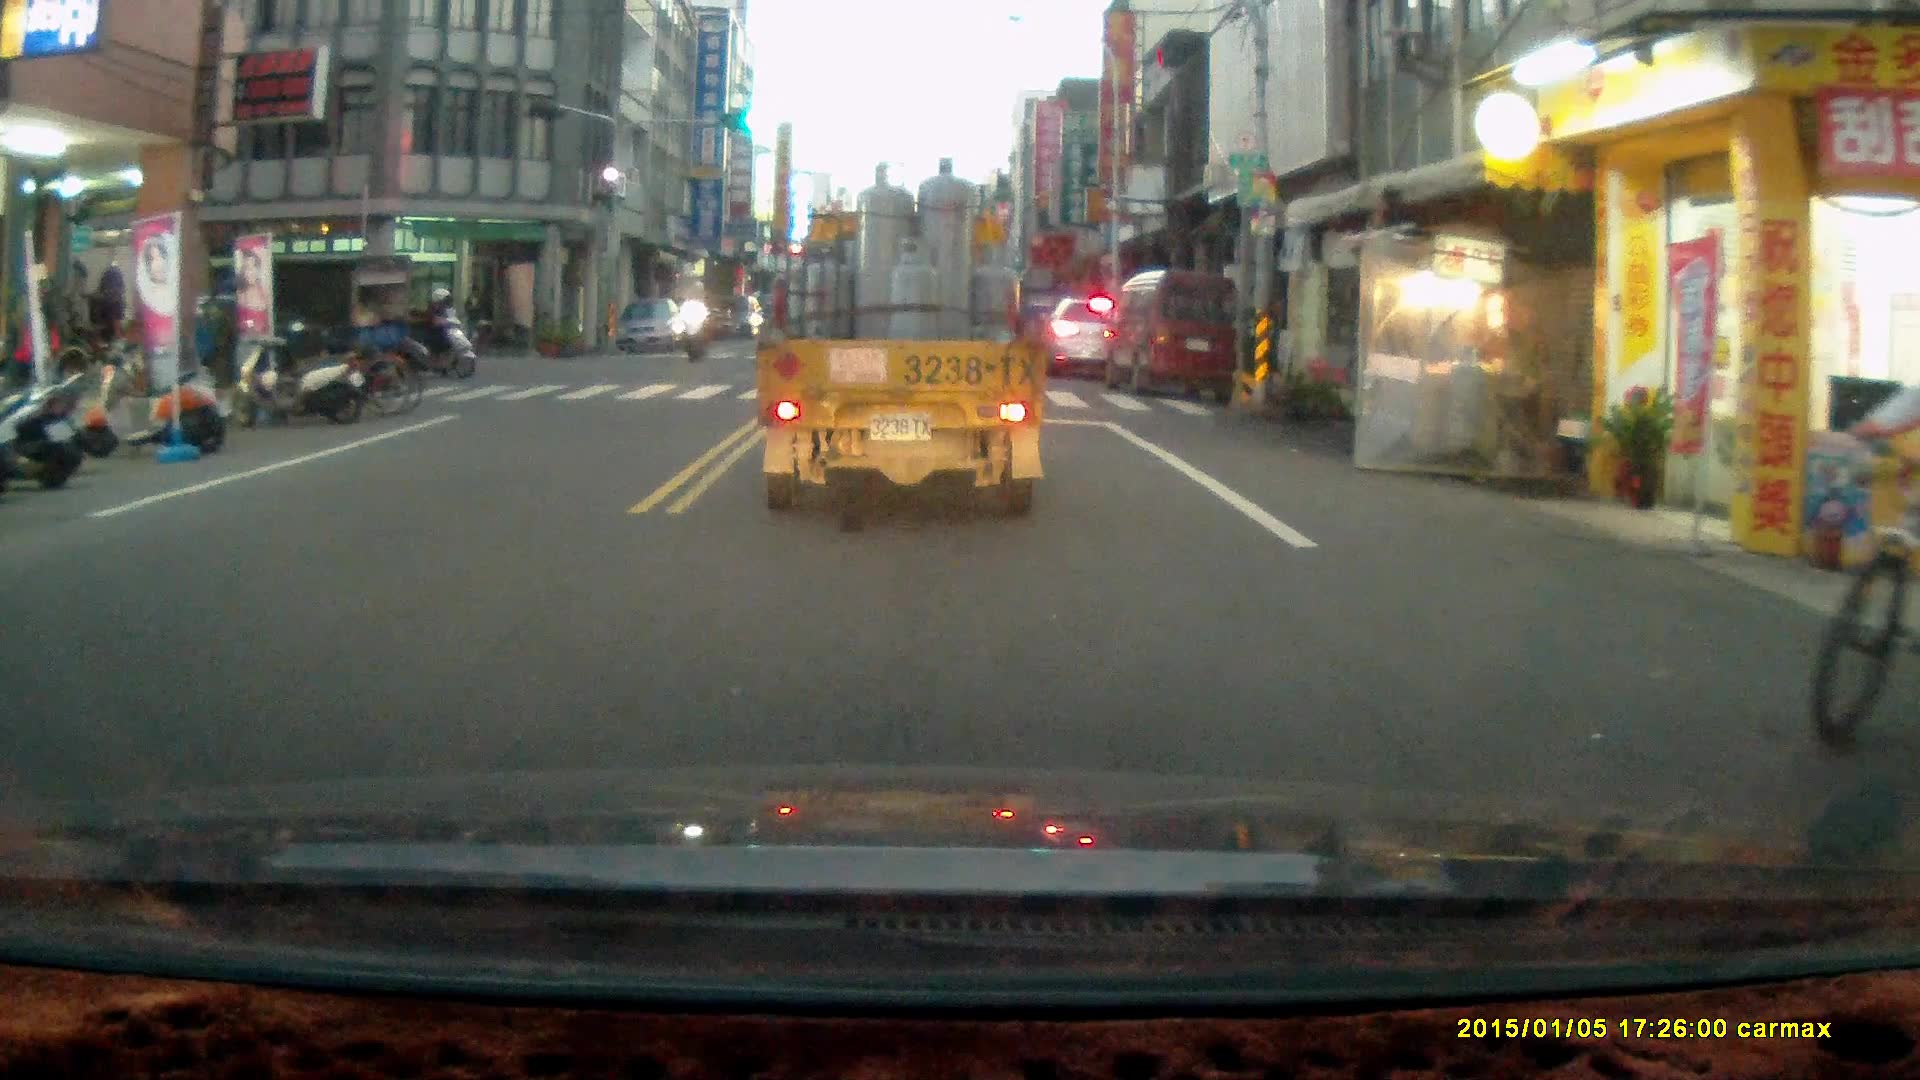pedestrian: (90, 265, 128, 375), (461, 280, 485, 355)
rider: (1808, 339, 1920, 750), (406, 285, 479, 382), (673, 274, 718, 363)
vehicle: (753, 161, 1039, 519), (162, 247, 422, 388), (1100, 267, 1244, 404), (1045, 299, 1128, 380), (616, 296, 687, 357)
